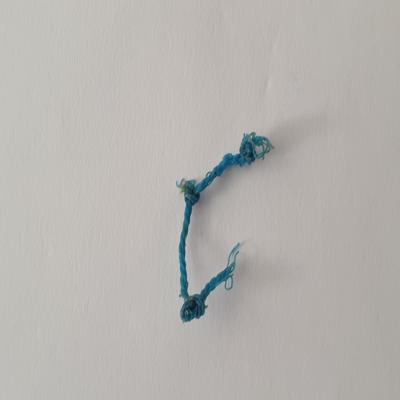thread: (168, 127, 280, 329)
